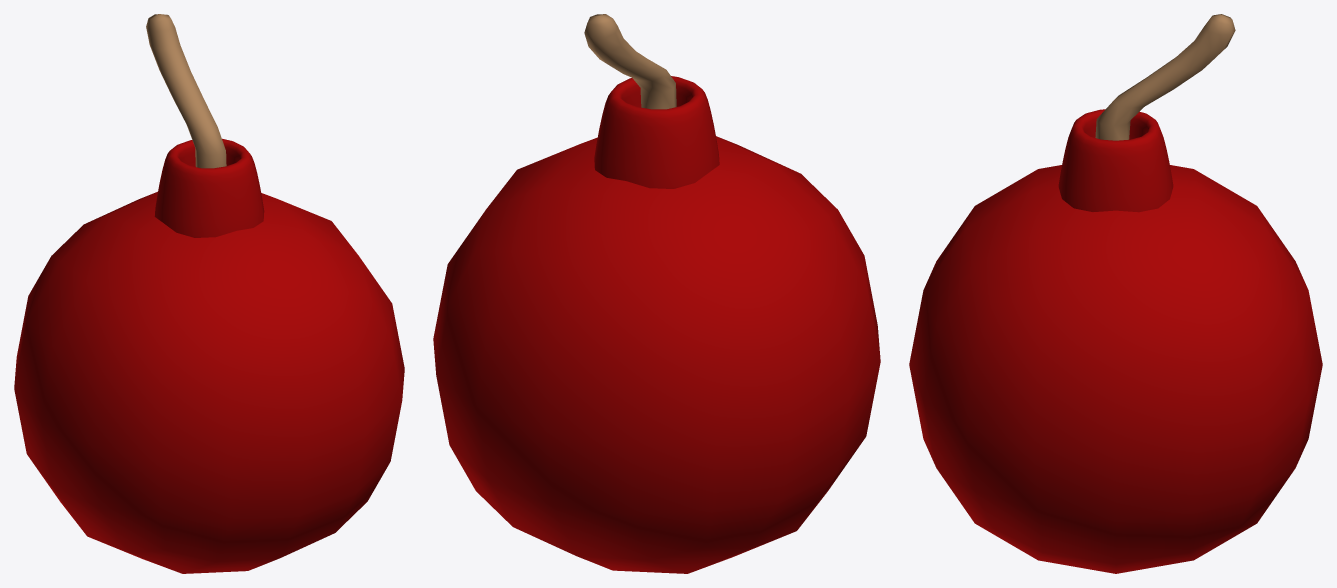
The model's file is bomba.fbx.
3 renders of one model, left to right at view 1: azimuth 30°, elevation 25°; view 2: azimuth 150°, elevation 25°; view 3: azimuth 270°, elevation 25°, orthographic. The views are drawn at different scales.
Visible parts, largest first — view 1: Cube, Cube.001, Cube.002; view 2: Cube, Cube.001, Cube.002; view 3: Cube, Cube.001, Cube.002.
Boxes of the visible parts, x1,y1,x2,y2 form: Cube: [14, 191, 404, 573]; Cube.001: [154, 138, 264, 237]; Cube.002: [146, 14, 226, 168]; Cube: [433, 136, 880, 573]; Cube.001: [594, 76, 719, 188]; Cube.002: [584, 14, 676, 109]; Cube: [909, 165, 1322, 573]; Cube.001: [1058, 109, 1173, 212]; Cube.002: [1095, 14, 1235, 140].
Bounding box in the file's own units: 562 × 804 × 562.
